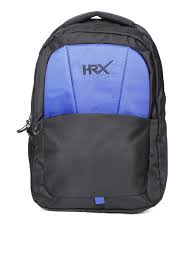backpack: (16, 10, 168, 213)
